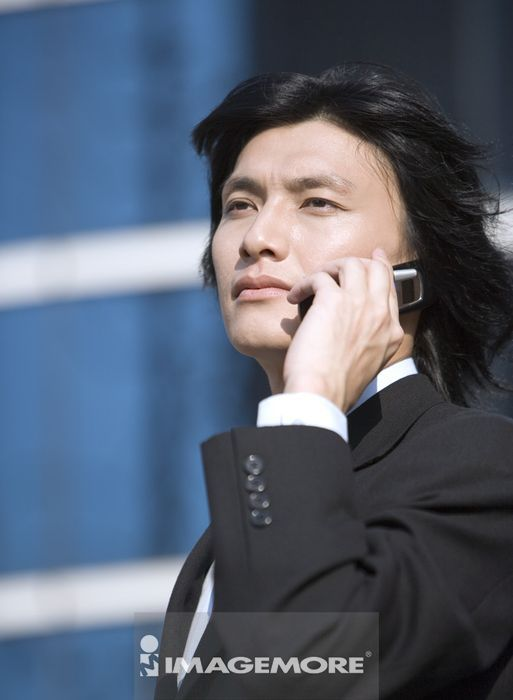talk: (209, 162, 425, 412)
